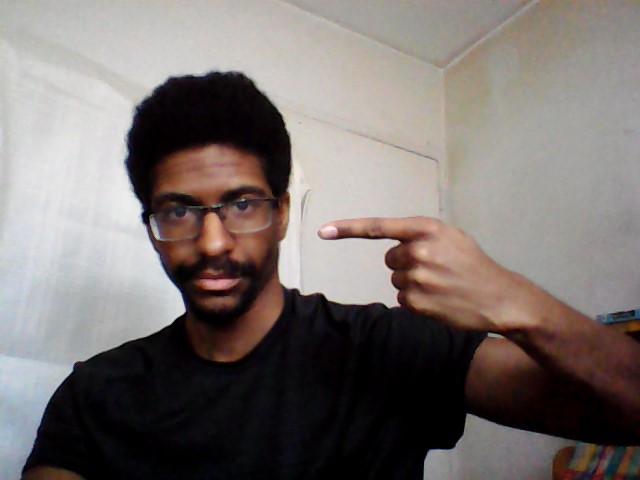g: (315, 205, 512, 338)
